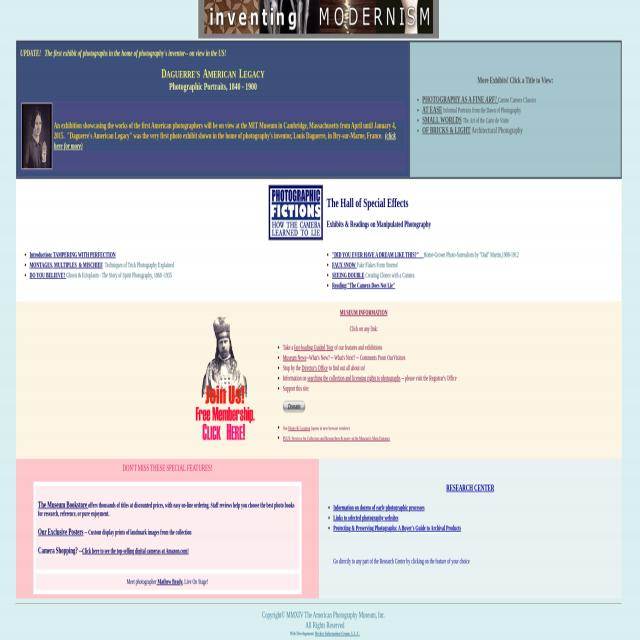button: (195, 315, 255, 445), (270, 188, 322, 237), (22, 104, 52, 168)
field: (283, 401, 305, 412)
